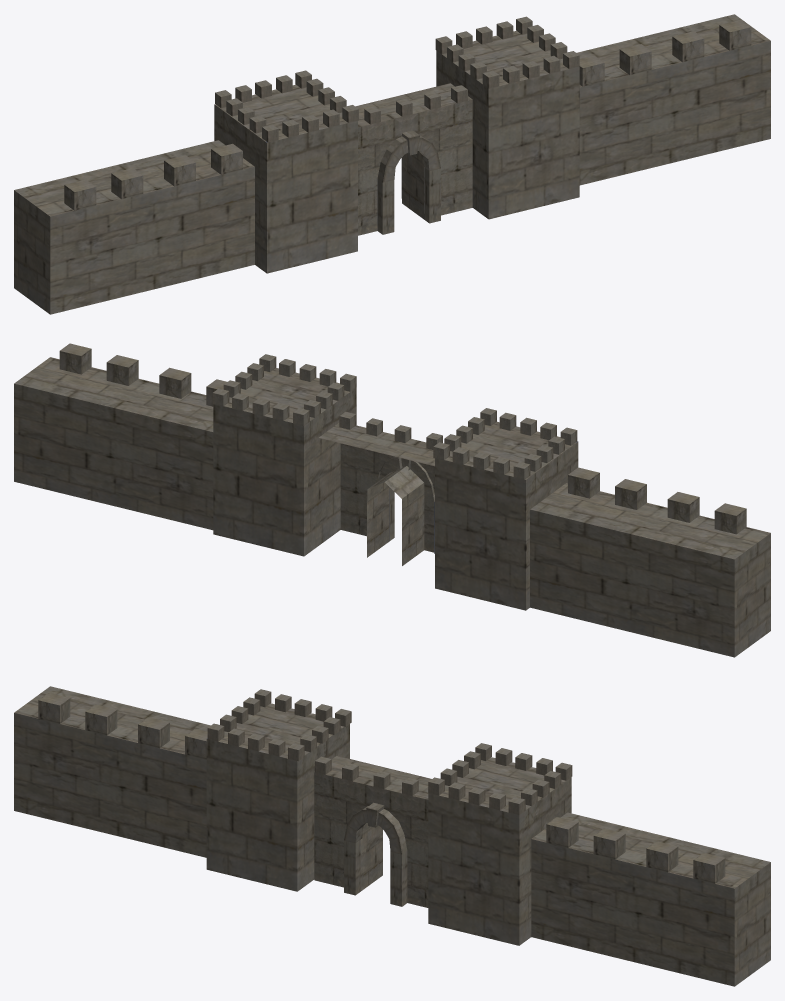
The model's file is muralha_texturizada.glb.
3 renders of one model, top to bottom at view 1: azimuth 30°, elevation 25°; view 2: azimuth 150°, elevation 25°; view 3: azimuth 330°, elevation 25°, orthographic.
Parts seen in each view (by area): view 1: Muralha; view 2: Muralha; view 3: Muralha.
Boxes of the visible parts, left/top/right/bottom form: Muralha: left=14, top=14, right=770, bottom=314; Muralha: left=14, top=343, right=770, bottom=657; Muralha: left=14, top=686, right=770, bottom=986.
Bounding box in the file's own units: 2368 × 445 × 302.
1 material, 1 textured.
